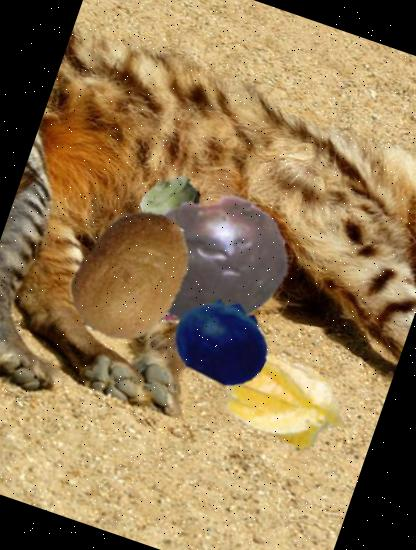Huckleberry: (162, 280, 284, 402)
Kiwi: (46, 190, 219, 363)
Kohlrabi: (132, 165, 210, 243)
Passion: (122, 165, 310, 353)
Physalis: (204, 317, 372, 484)
Pitahaya: (142, 264, 222, 344)
